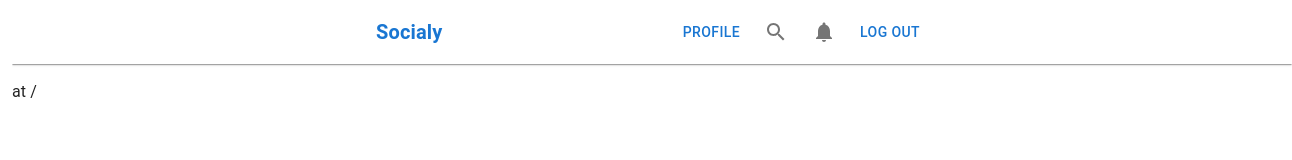
Scenario: Navbar › for a logged-in user › logs out and goes to the login page
Expected: the text "at /" is shown, [12,82,37,101]
Click the button "Log out": {"x": 890, "y": 32} [852,14,928,50]
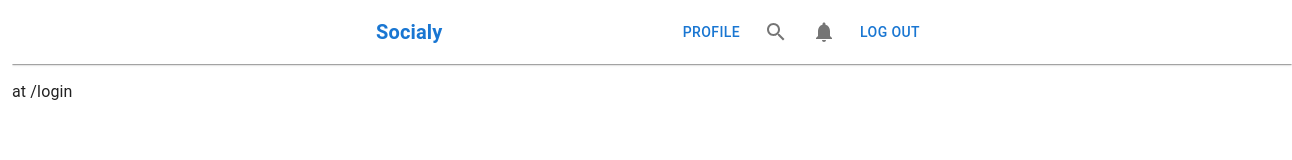
Expected: the text "at /login" is shown, [12,82,73,101]
